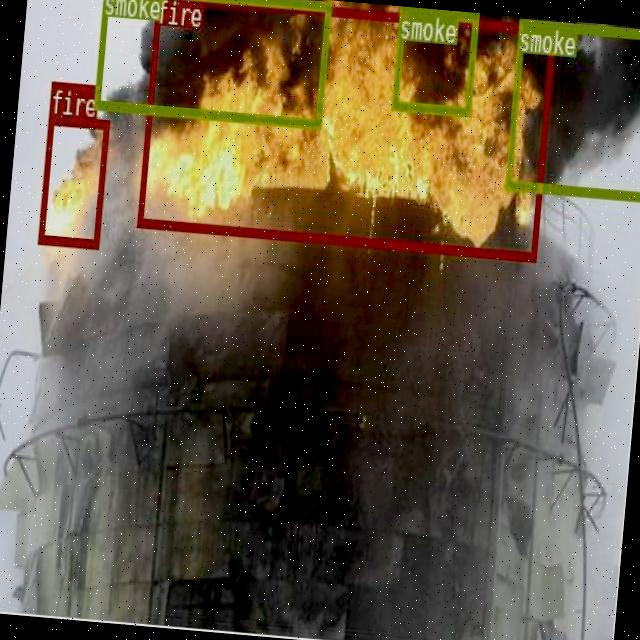fire: (135, 0, 554, 260), (37, 113, 108, 248)
smoke: (92, 0, 330, 127), (504, 18, 640, 199), (390, 6, 478, 113)
